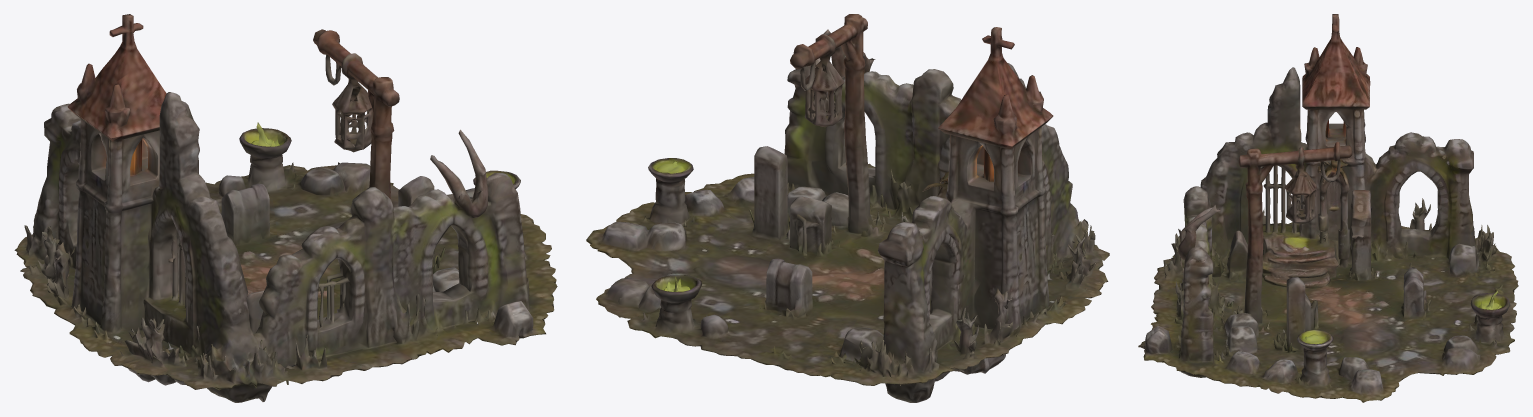
File: lm_saint_orrins_rest.glb
3 renders of one model, left to right at view 1: azimuth 30°, elevation 25°; view 2: azimuth 150°, elevation 25°; view 3: azimuth 270°, elevation 25°, orthographic. The views are drawn at different scales.
Parts seen in each view (by area): view 1: tripo_node_d692cc1b-828d-4c8c-8a26-bcbd1317f9ec; view 2: tripo_node_d692cc1b-828d-4c8c-8a26-bcbd1317f9ec; view 3: tripo_node_d692cc1b-828d-4c8c-8a26-bcbd1317f9ec.
Part boxes in pixels (<box>): tripo_node_d692cc1b-828d-4c8c-8a26-bcbd1317f9ec: <box>14,14,557,402</box>; tripo_node_d692cc1b-828d-4c8c-8a26-bcbd1317f9ec: <box>586,14,1109,402</box>; tripo_node_d692cc1b-828d-4c8c-8a26-bcbd1317f9ec: <box>1138,14,1518,402</box>.
Bounding box in the file's own units: 8 × 5.87 × 7.18.
1 material, 1 textured.
